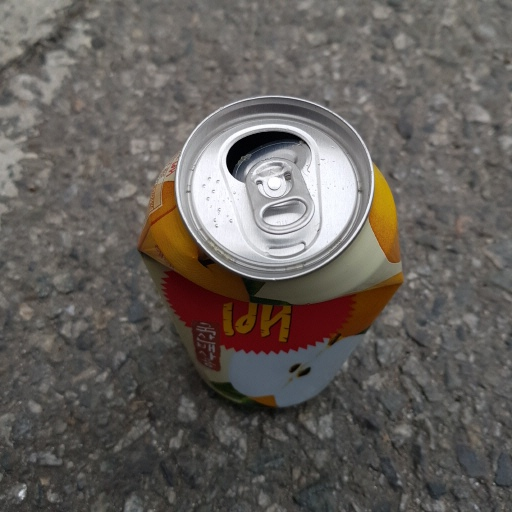Metal_0: (135, 92, 408, 416)
